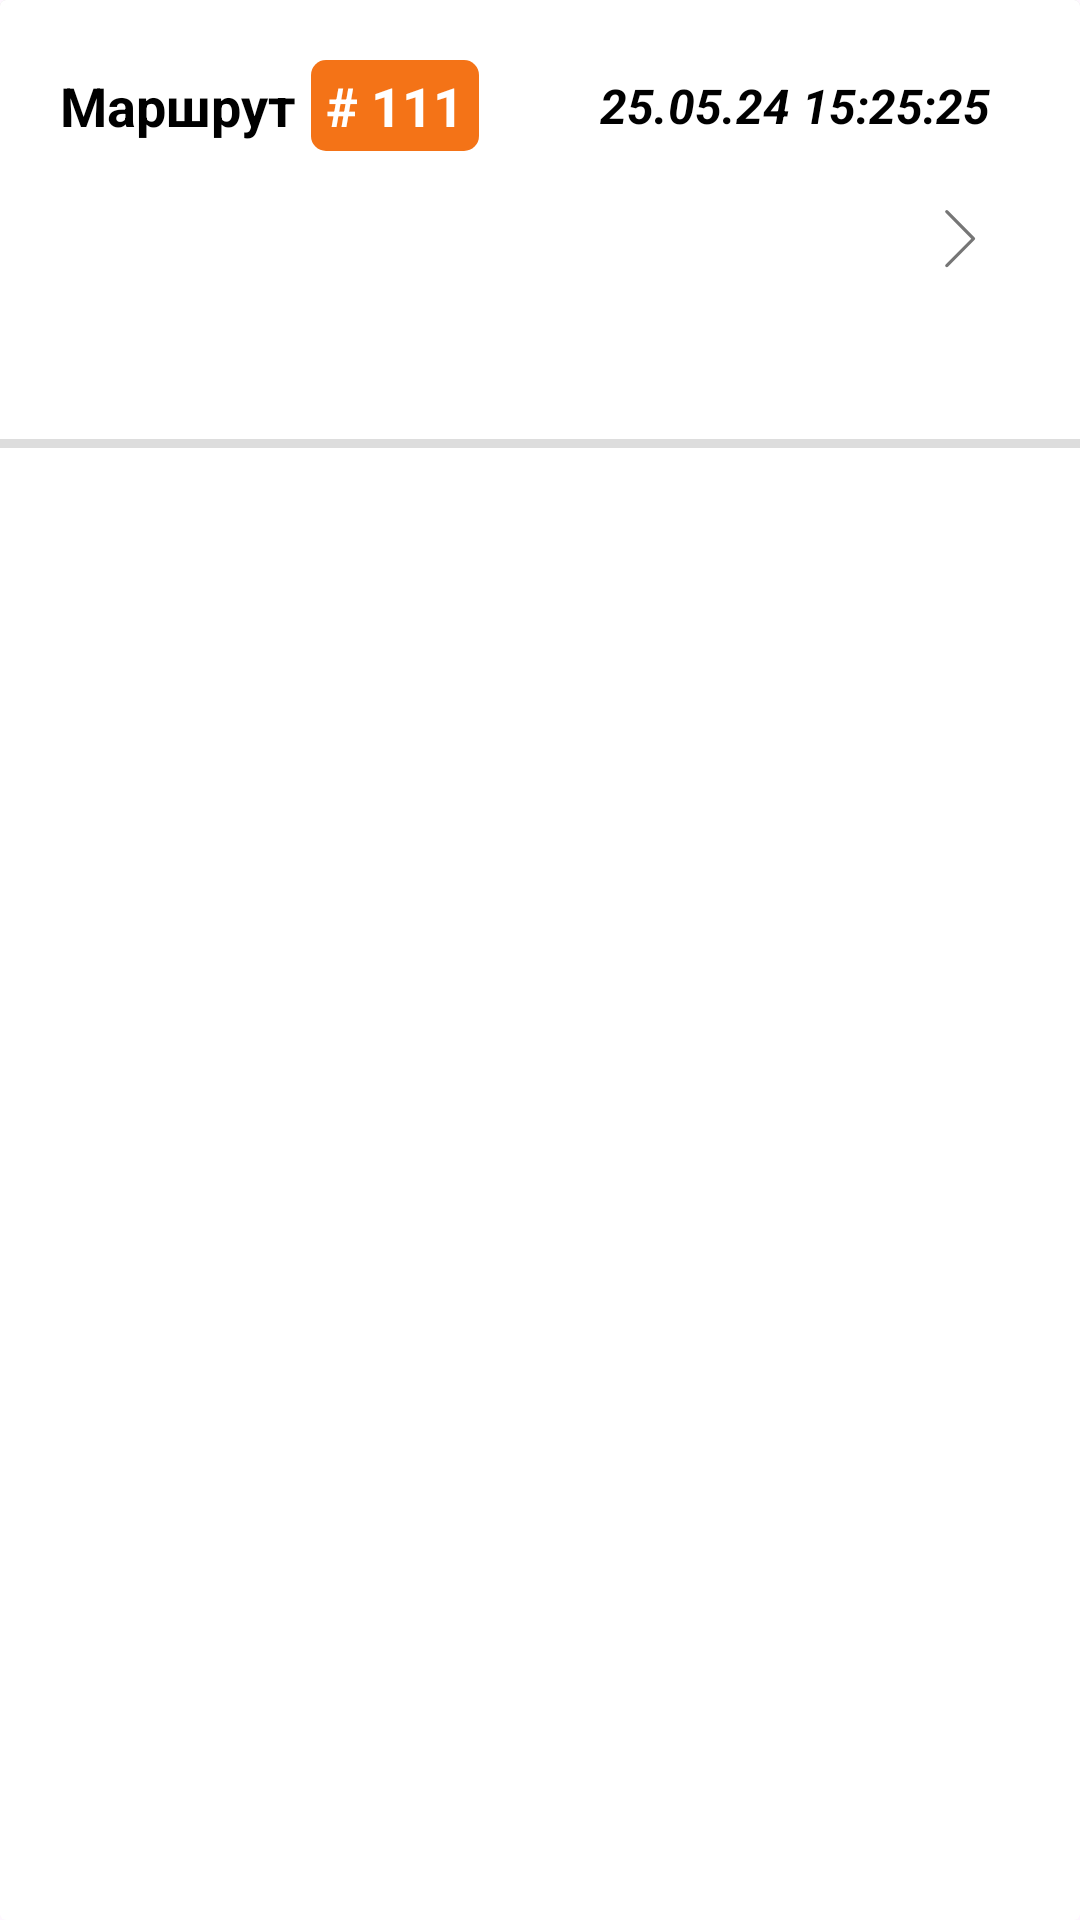

Icons on this 1080w x 1920h Android screen, each with the point to tap as [x,y]:
next: [960,238]
